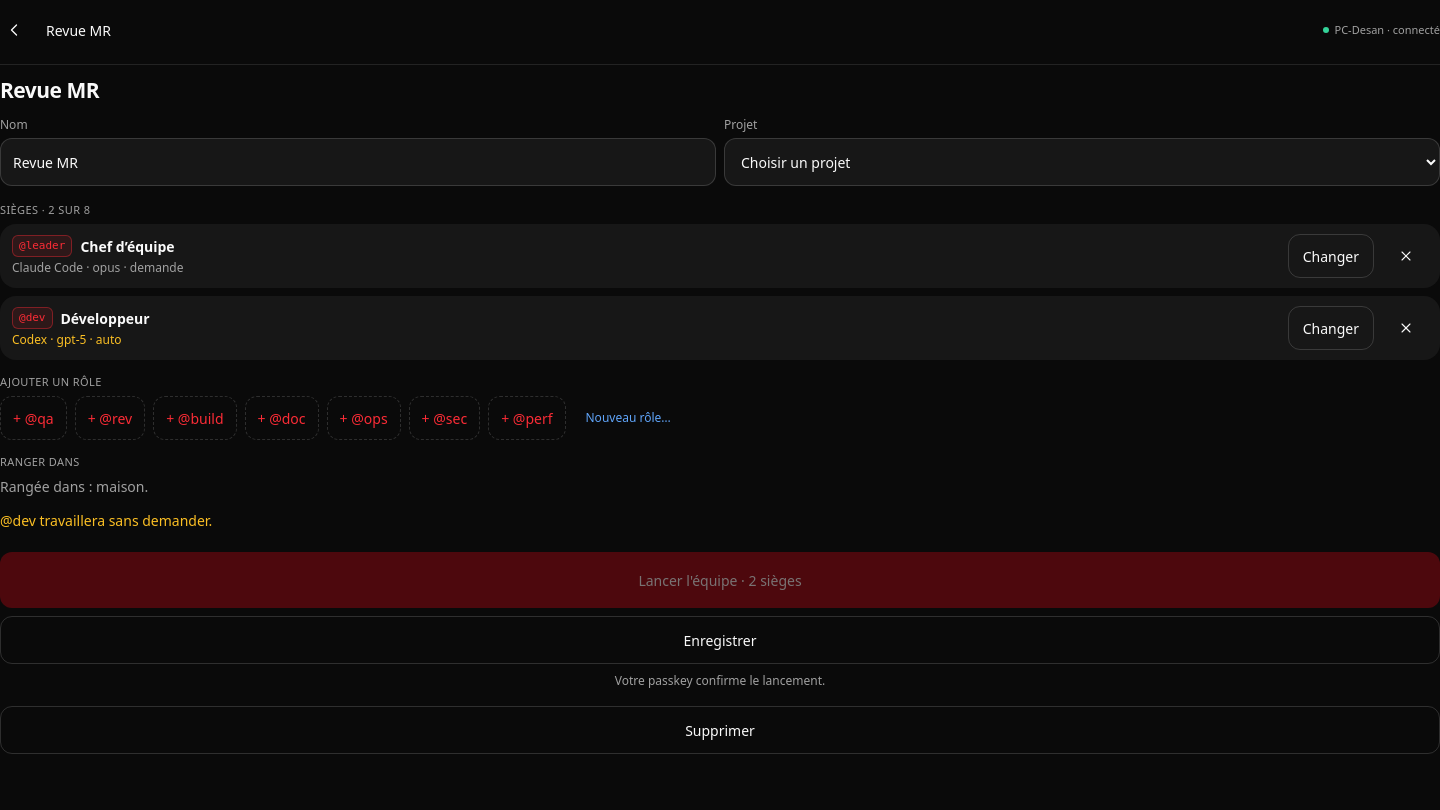
Test case: the team editor, seats › an IA the protocol does not accept disables « Appliquer » and says so
The width and height of the screenshot is (1440, 810).
Click the button with aria-label "Changer @leader".
click(1331, 256)  # box [1288,234,1374,278]
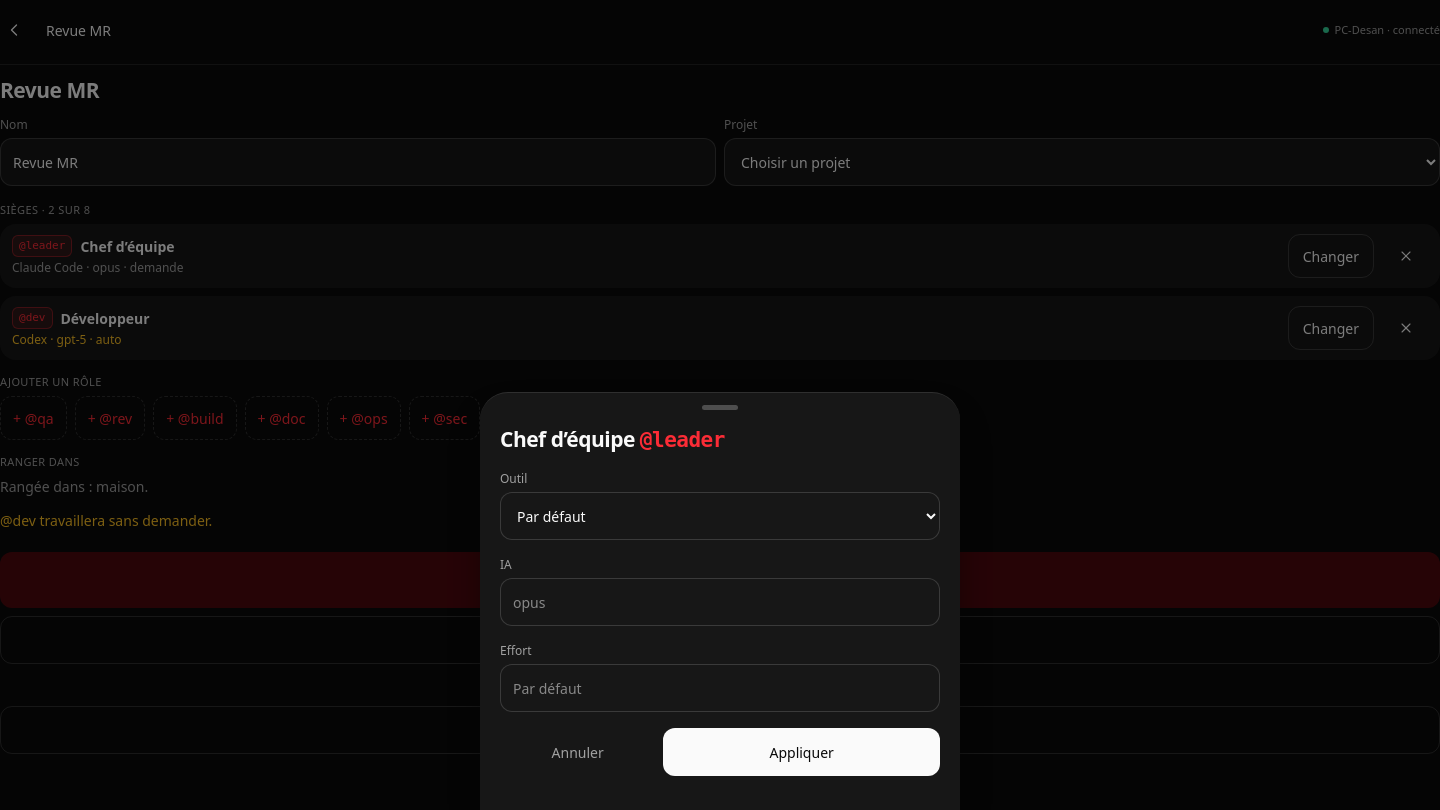
Type "-flag" into the field labelled "IA".
click(720, 602); type("-flag")  # box [500,578,940,626]
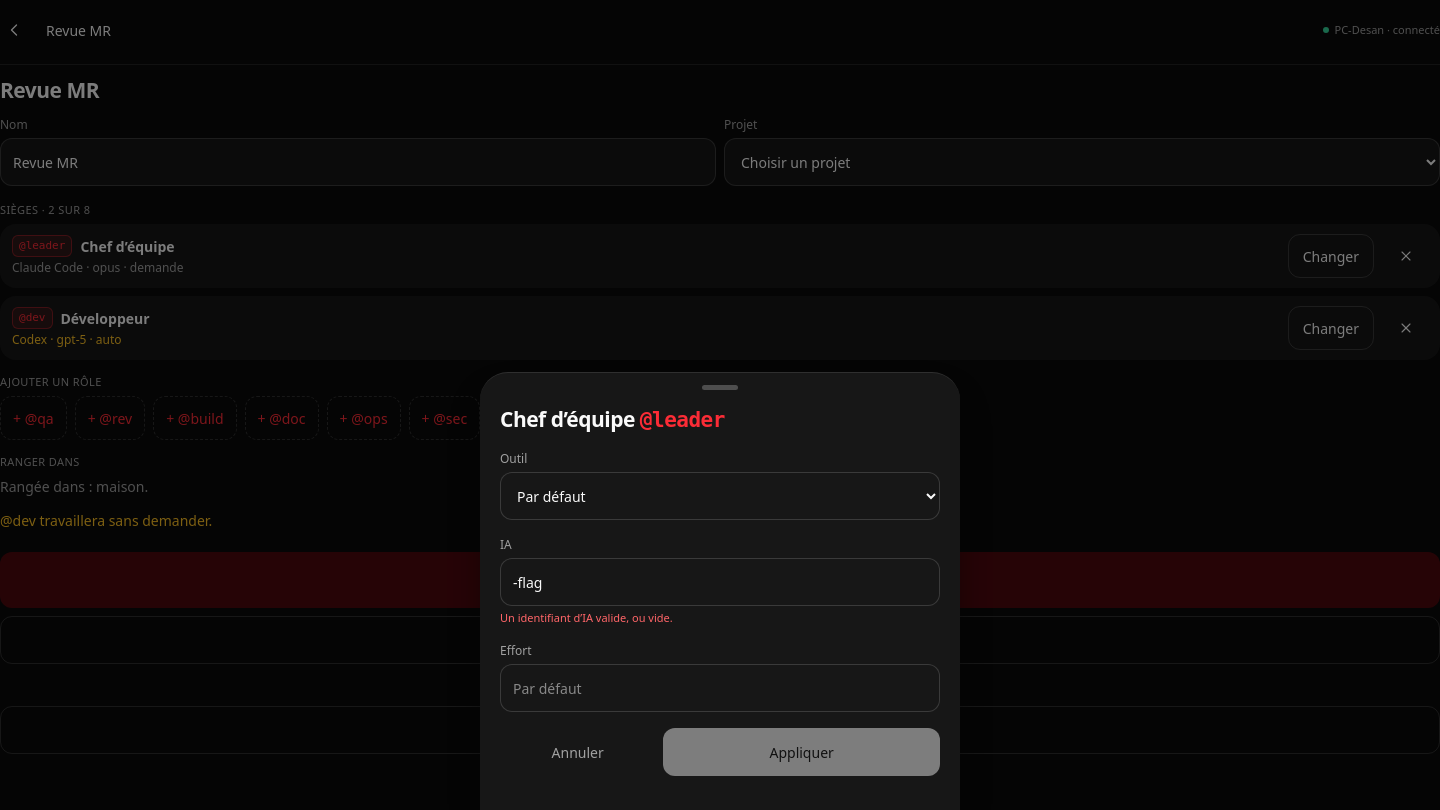
Expected: the button "Appliquer" is disabled, [663,728,940,776]
Expected: the text "Un identifiant d’IA valide, ou vide." is shown, [500,610,673,625]
